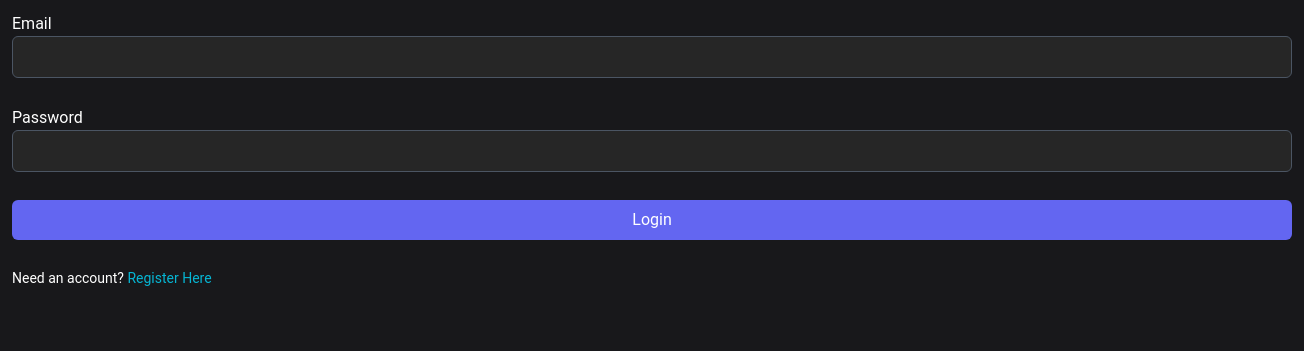
Test: SignInForm › shows server error for invalid credentials
Type "test@example.com" into the field labelled "Email" at (652, 57), box [12,36,1292,78]
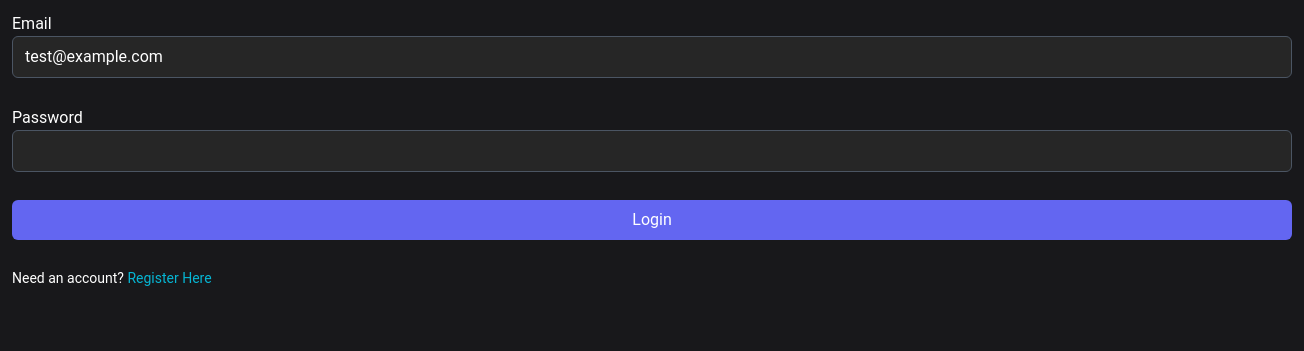
Type "wrongpassword" into the password field labelled "Password" at (652, 151), box [12,130,1292,172]
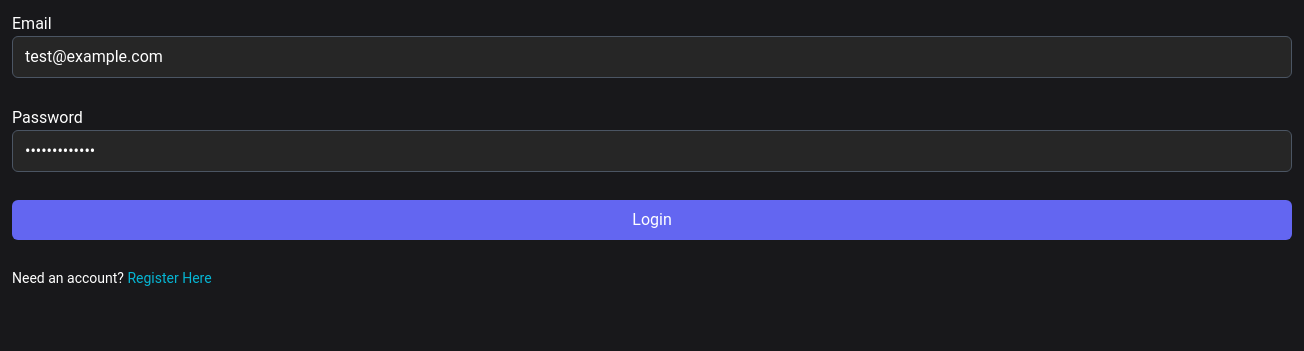
Click the button with test id "button-sigin" at (652, 220), box [12,200,1292,240]
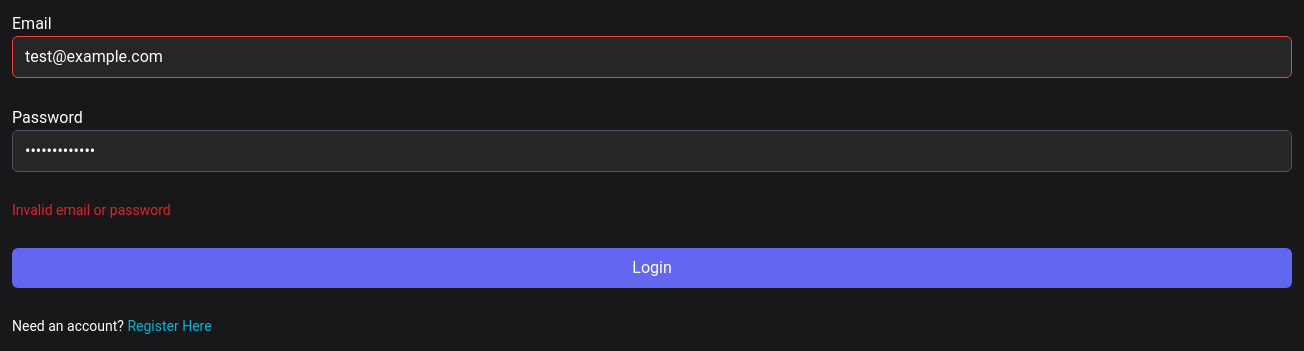
Check: the text "Invalid email or password" is shown, box [12,202,171,218]
